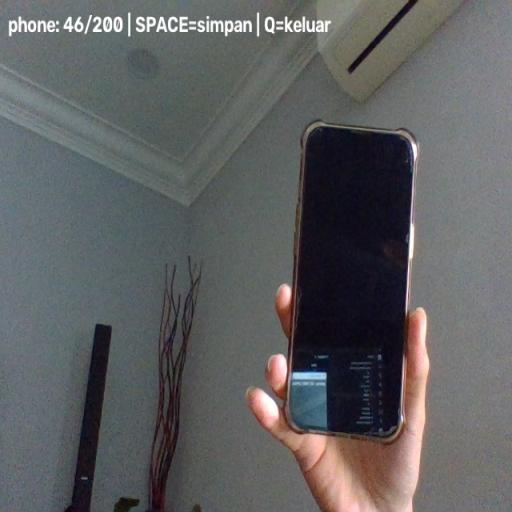Phone: (284, 119, 419, 446)
